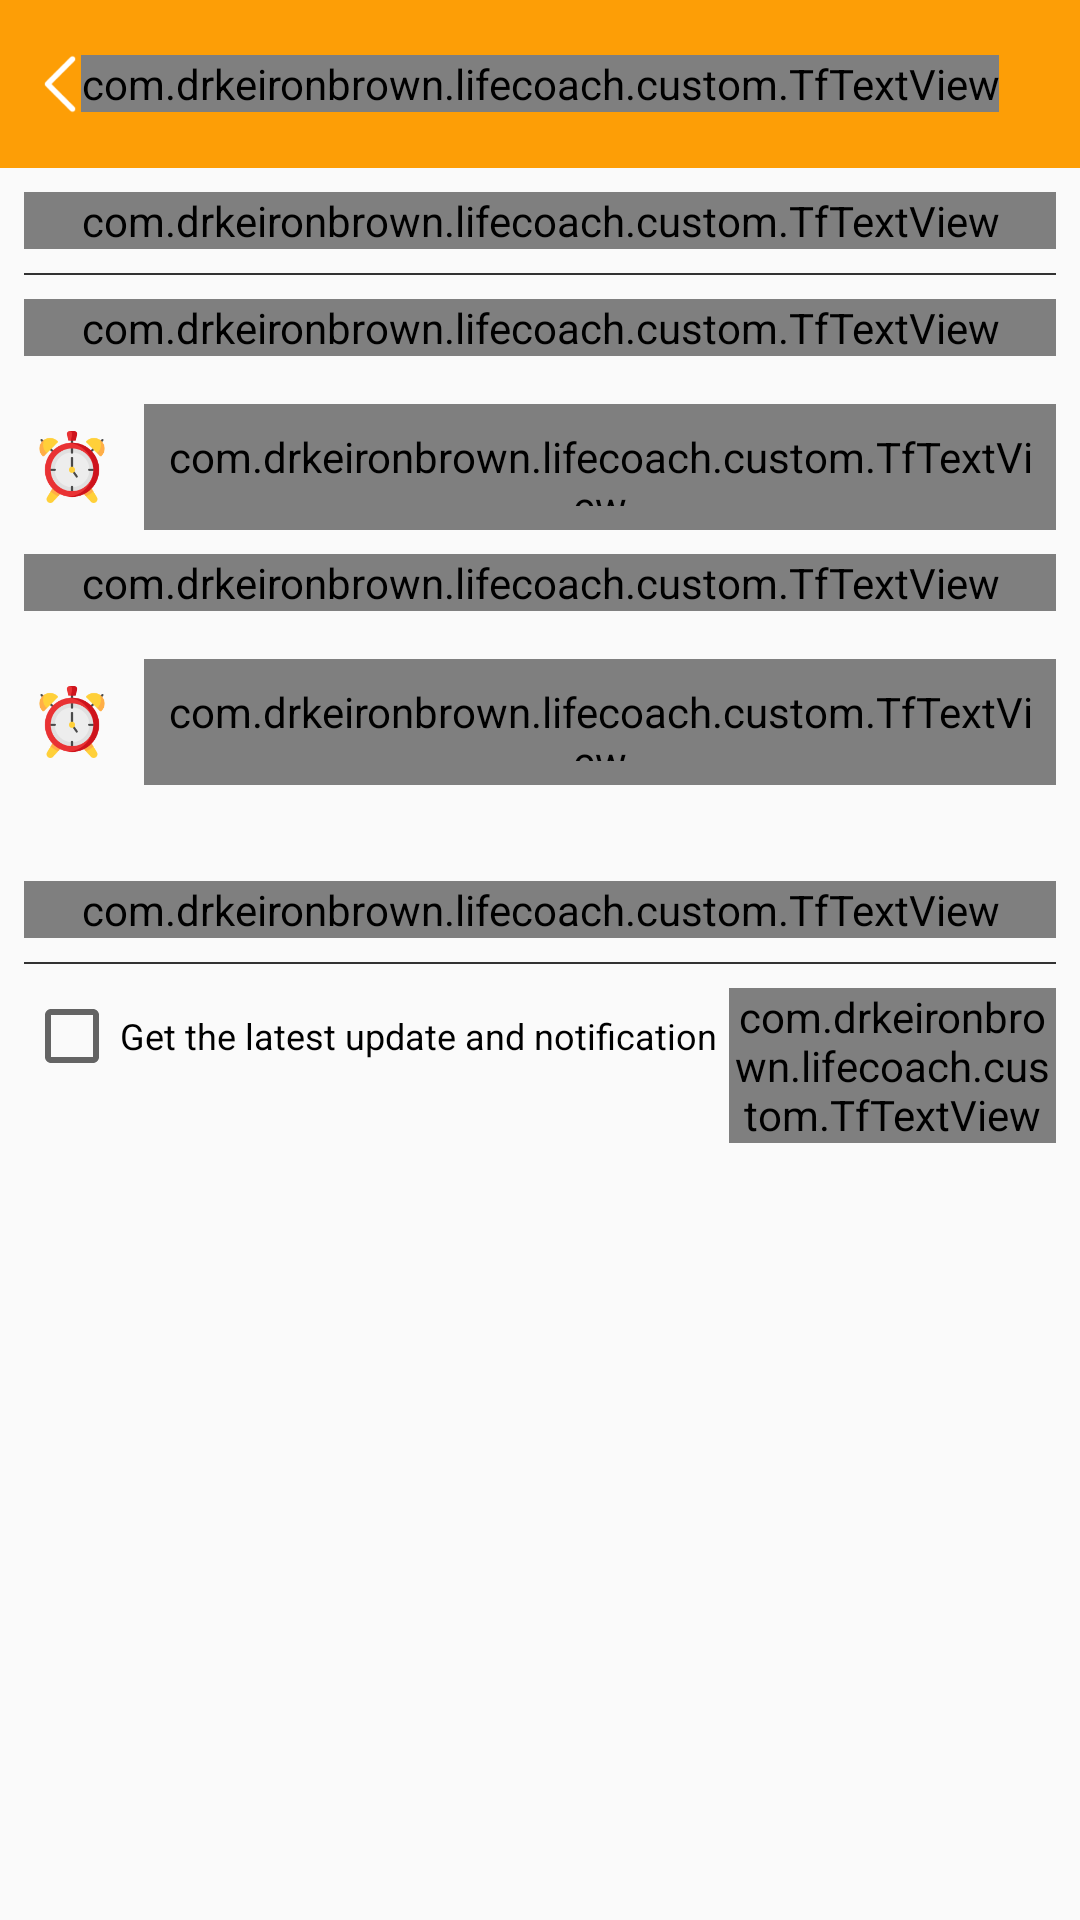

Screen size 1080w x 1920h. Icon name, then its center in pixels as point (x, y):
alarm clock: point (72, 467), point (72, 722)
